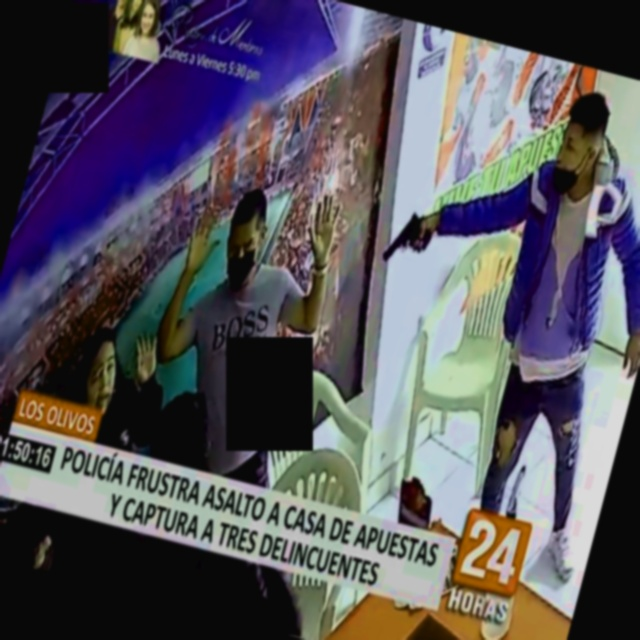gun: (369, 182, 446, 289)
